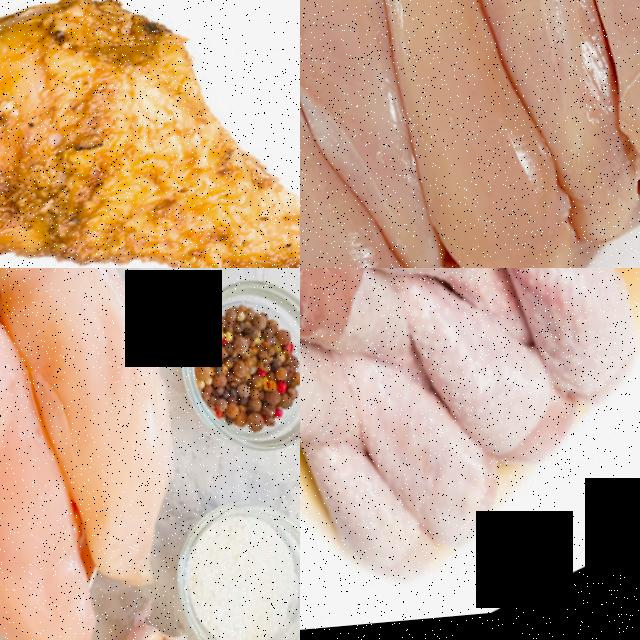chicken breast: (0, 268, 245, 623), (324, 0, 596, 268), (409, 0, 640, 247), (300, 0, 472, 268), (0, 284, 120, 640), (498, 0, 640, 243), (300, 0, 401, 268)
chicken thigh: (0, 0, 300, 268), (391, 268, 585, 518), (312, 268, 539, 403)
